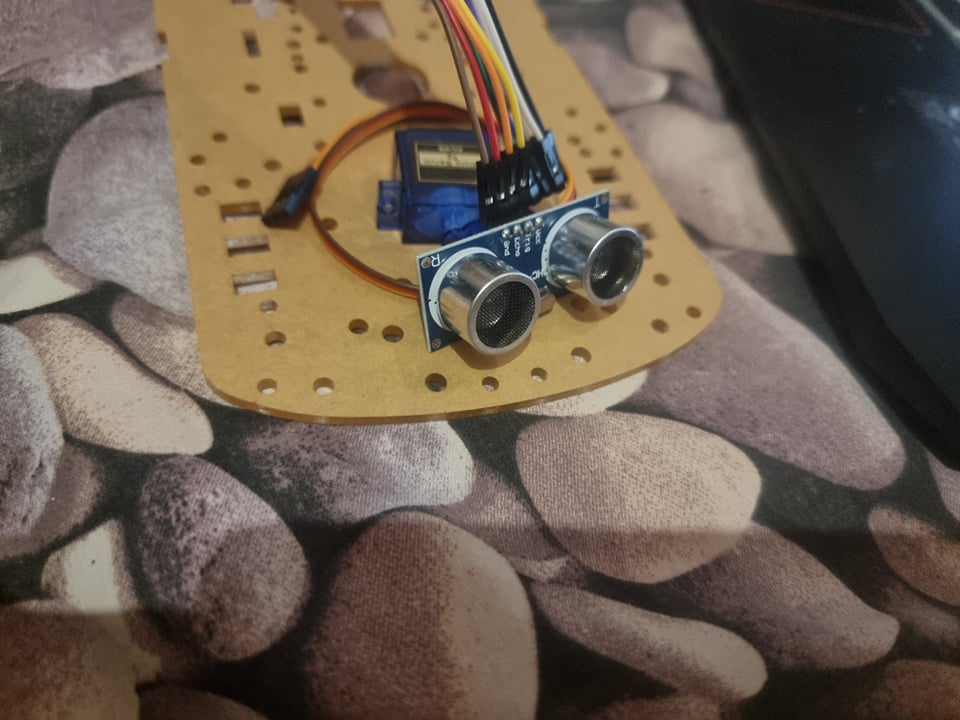SENSOR: (415, 189, 646, 360)
